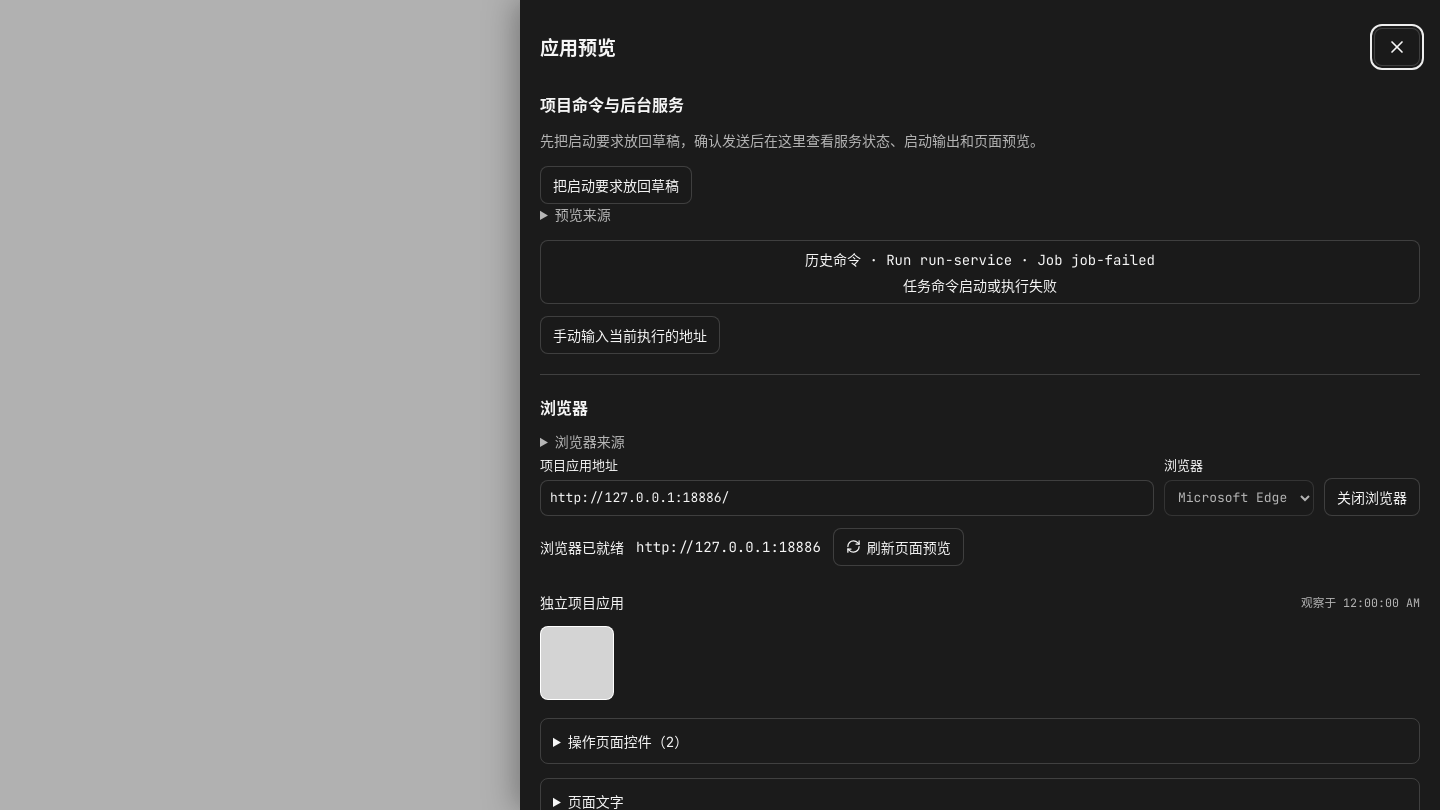
Test case: keeps browser readiness independent from a failed service and prevents opening its output addresses
Click the button "历史命令 · Run run-service · Job job-failed 任务命令启动或执行失败" at (833,260), box [540,240,1420,304]
(page scrolled)
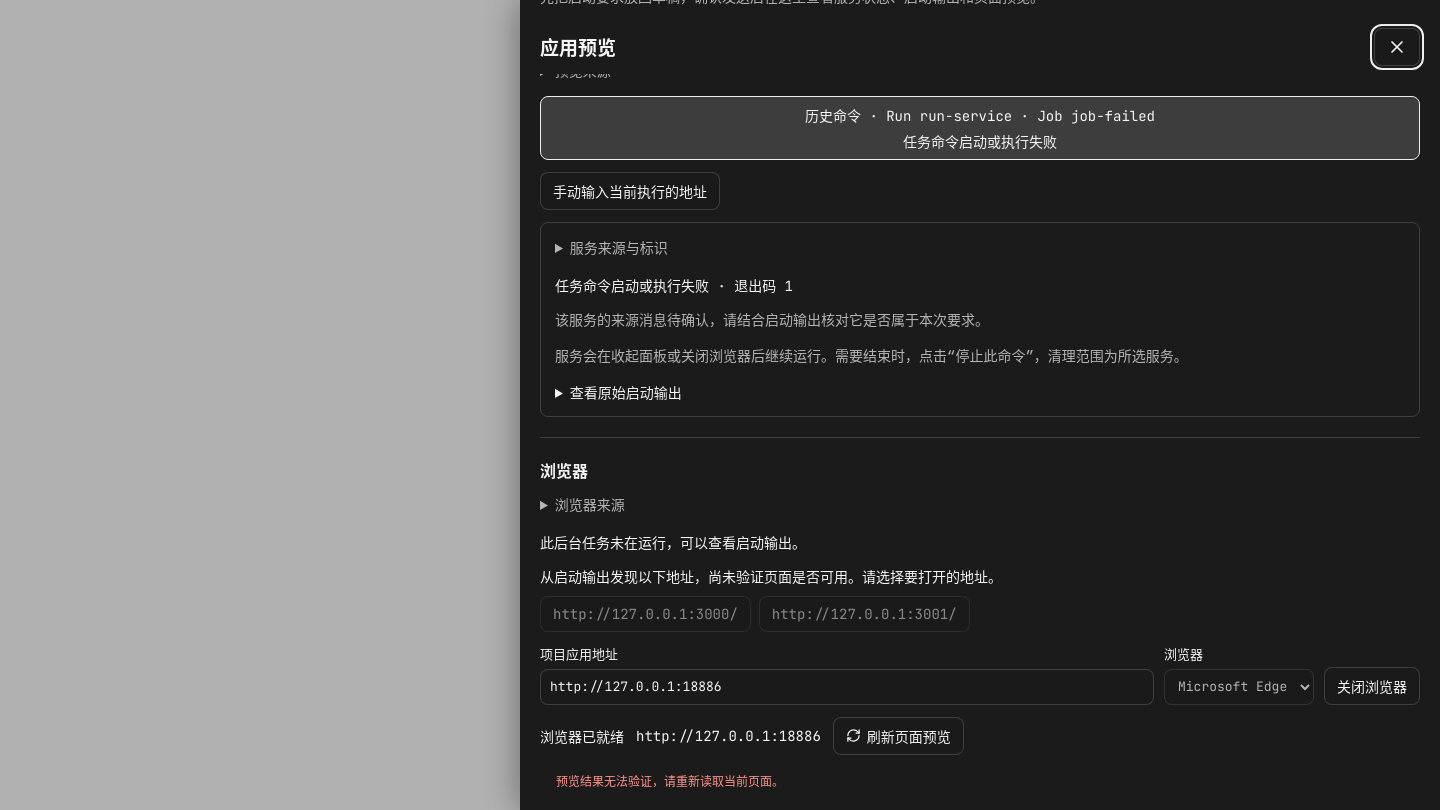
Expected: the text "浏览器已就绪" is shown, [540,726,624,746]
Expected: the button with aria-label "选择地址 http://127.0.0.1:3001/" is disabled, [759,596,970,632]
Expected: the text "任务命令启动或执行失败 · 退出码 1" is shown, [555,277,793,295]
